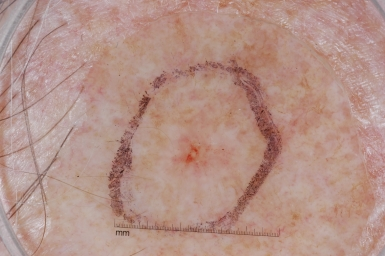seborrheic keratosis: (157, 114, 238, 192)
